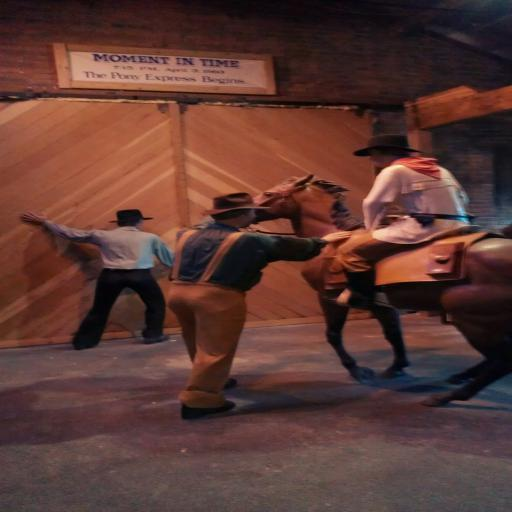horse: (252, 174, 512, 406)
